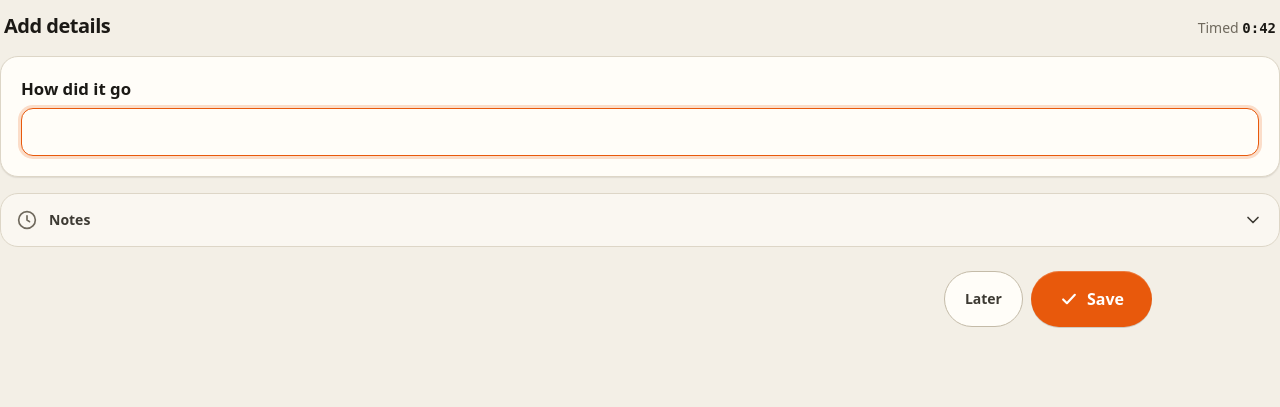
Test: RunDetailsForm › a run_open refusal shows on the form, and nothing is reported done
This screenshot has width=1280, height=407.
Step 1. Type "Fine" into the field labelled "How did it go" → coordinates (640, 132), box [21,108,1259,156]
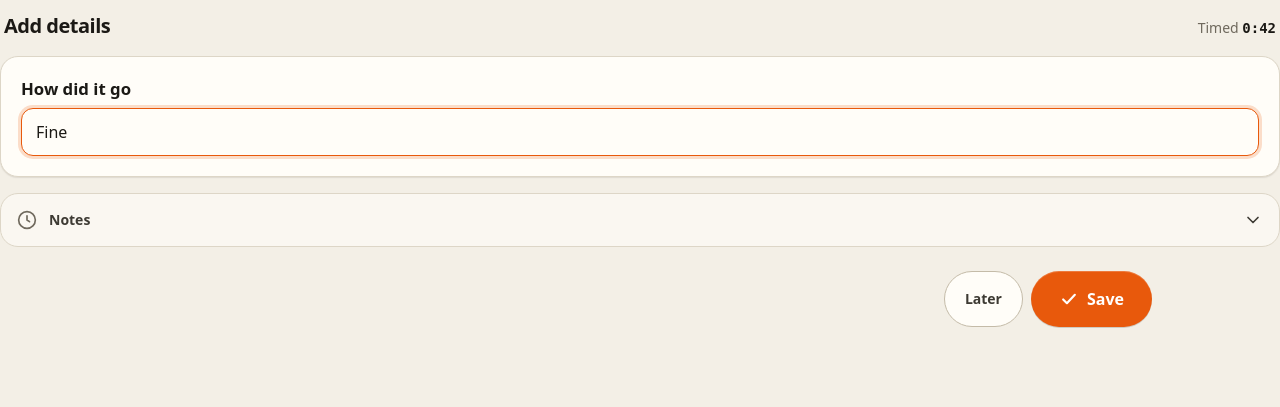
Step 2. Click the button "Save" → coordinates (1092, 299), box [1031,271,1152,327]
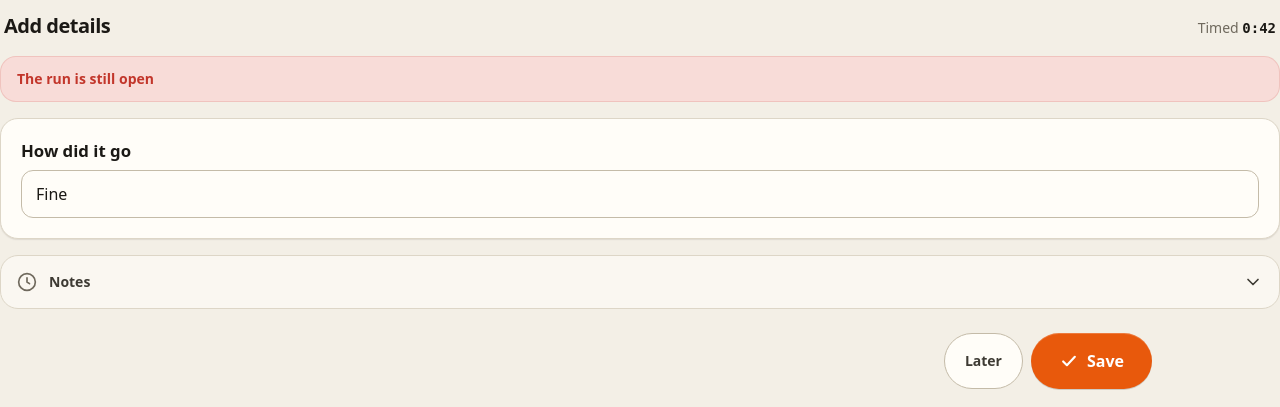
Result: the message reads "The run is still open" at [17,69,154,88]
